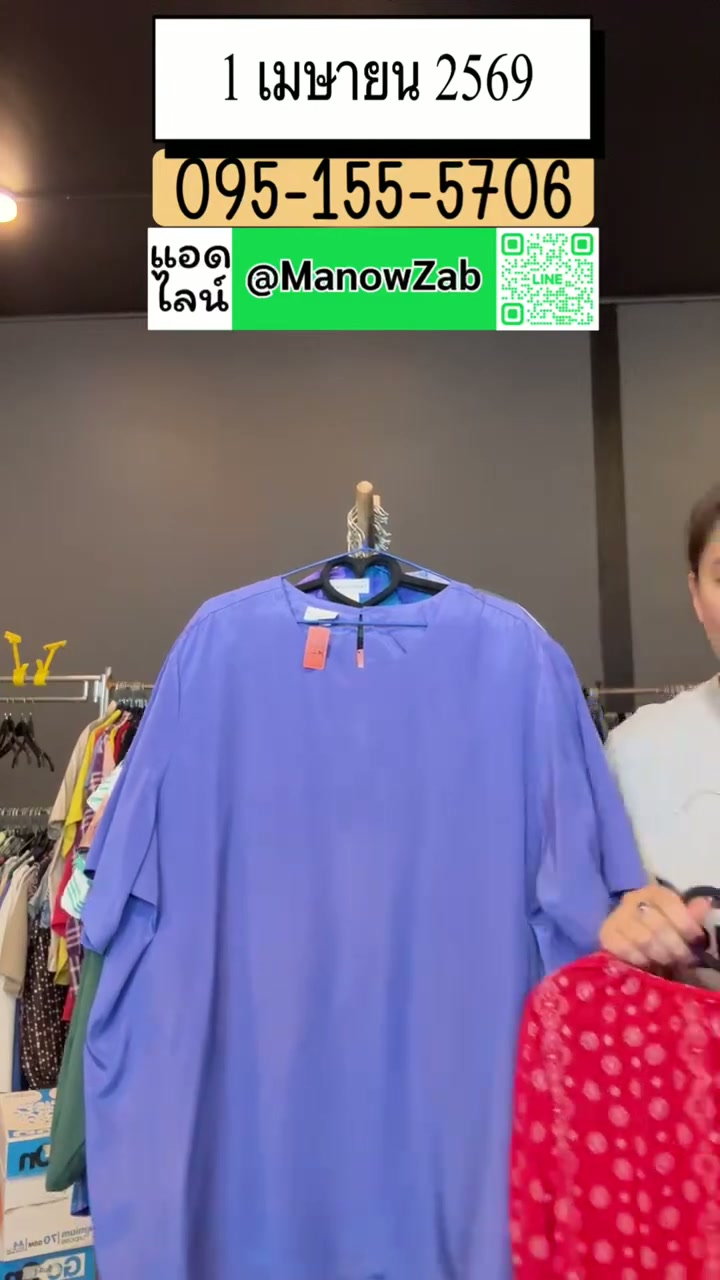display_shirt: (84, 577, 643, 1279)
